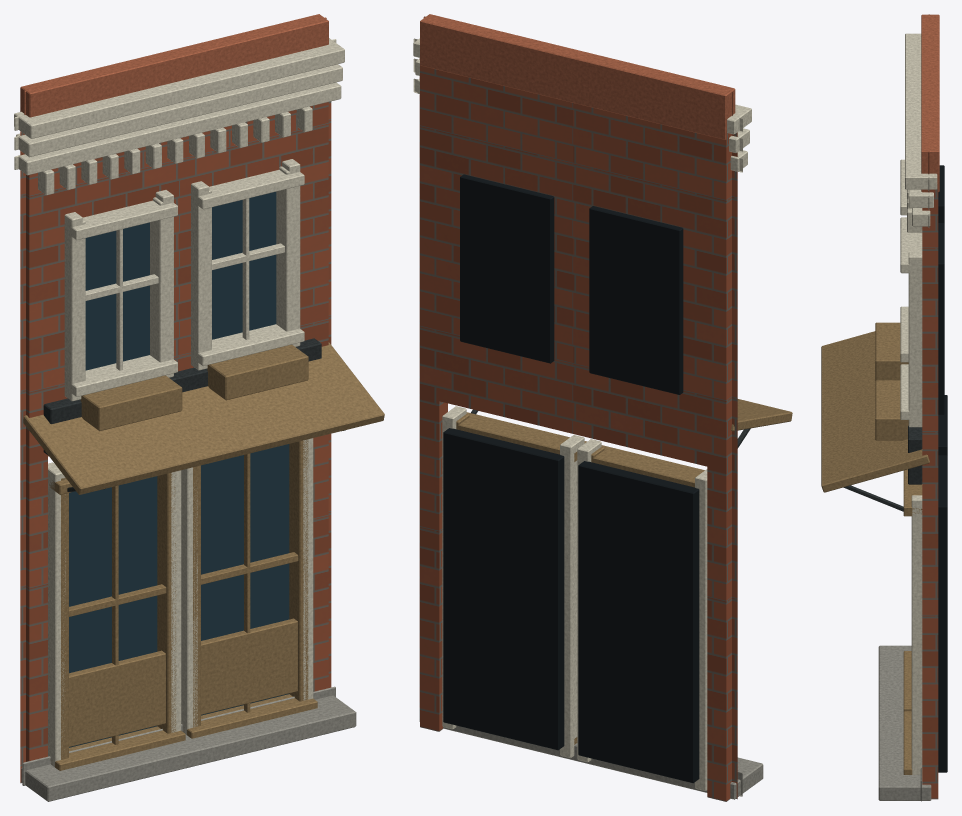
The model's file is CLSTGA12_lod1.glb.
The picture shows the model from 3 angles, left to right: view 1: azimuth 30°, elevation 25°; view 2: azimuth 150°, elevation 25°; view 3: azimuth 270°, elevation 25°; orthographic projection. The views are drawn at different scales.
Visible parts, largest first — view 1: CLSTGA12_FRONT_LOD1; view 2: CLSTGA12_FRONT_LOD1; view 3: CLSTGA12_FRONT_LOD1.
Boxes of the visible parts, <box> form: CLSTGA12_FRONT_LOD1: <box>14,14,384,801</box>; CLSTGA12_FRONT_LOD1: <box>413,14,792,801</box>; CLSTGA12_FRONT_LOD1: <box>821,14,947,801</box>.
Size of the model in its own units: 3.44 by 7.05 by 1.25.
Materials: 9 (7 with a texture image).
